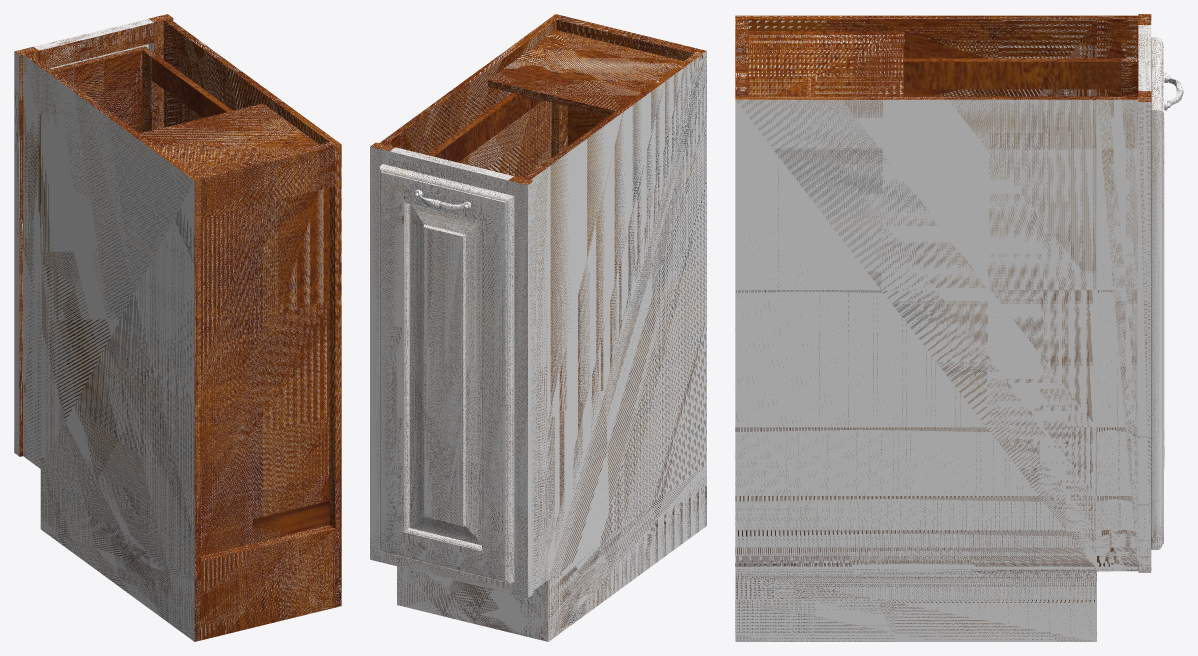
3 views of the same model, side by side, from view 1: azimuth 30°, elevation 25°; view 2: azimuth 150°, elevation 25°; view 3: azimuth 270°, elevation 25° (orthographic). The views are drawn at different scales.
Visible parts, largest first — view 1: mesh7_mesh7-geometry, mesh4_mesh4-geometry, mesh12_mesh12-geometry, mesh8_mesh8-geometry, mesh10_mesh10-geometry, mesh6_mesh6-geometry, mesh14_mesh14-geometry, mesh3_mesh3-geometry, mesh2_mesh2-geometry, mesh18_mesh18-geometry, mesh5_mesh5-geometry, mesh15_mesh15-geometry (+3 smaller); view 2: mesh7_mesh7-geometry, mesh28_mesh28-geometry, mesh27_mesh27-geometry, mesh2_mesh2-geometry, mesh29_mesh29-geometry, mesh8_mesh8-geometry, mesh14_mesh14-geometry, mesh10_mesh10-geometry, mesh6_mesh6-geometry, mesh13_mesh13-geometry, mesh5_mesh5-geometry, mesh22_mesh22-geometry (+9 smaller); view 3: mesh10_mesh10-geometry, mesh11_mesh11-geometry, mesh9_mesh9-geometry, mesh7_mesh7-geometry, mesh14_mesh14-geometry, mesh15_mesh15-geometry, mesh2_mesh2-geometry, mesh27_mesh27-geometry, mesh6_mesh6-geometry, mesh3_mesh3-geometry, mesh21_mesh21-geometry, mesh5_mesh5-geometry (+2 smaller).
Boxes of the visible parts, x1=… form: mesh7_mesh7-geometry: x1=40, y1=66, x2=200, y2=581; mesh4_mesh4-geometry: x1=201, y1=187, x2=329, y2=556; mesh12_mesh12-geometry: x1=201, y1=525, x2=335, y2=640; mesh8_mesh8-geometry: x1=40, y1=469, x2=200, y2=641; mesh10_mesh10-geometry: x1=181, y1=31, x2=341, y2=547; mesh6_mesh6-geometry: x1=23, y1=53, x2=46, y2=468; mesh14_mesh14-geometry: x1=140, y1=103, x2=318, y2=174; mesh3_mesh3-geometry: x1=196, y1=142, x2=335, y2=218; mesh2_mesh2-geometry: x1=14, y1=14, x2=173, y2=456; mesh18_mesh18-geometry: x1=51, y1=48, x2=142, y2=133; mesh5_mesh5-geometry: x1=34, y1=18, x2=153, y2=67; mesh15_mesh15-geometry: x1=152, y1=56, x2=232, y2=117; mesh7_mesh7-geometry: x1=542, y1=49, x2=706, y2=579; mesh28_mesh28-geometry: x1=461, y1=237, x2=514, y2=534; mesh27_mesh27-geometry: x1=379, y1=217, x2=425, y2=514; mesh2_mesh2-geometry: x1=370, y1=142, x2=533, y2=597; mesh29_mesh29-geometry: x1=425, y1=229, x2=461, y2=523; mesh8_mesh8-geometry: x1=541, y1=464, x2=706, y2=641; mesh14_mesh14-geometry: x1=488, y1=30, x2=683, y2=116; mesh10_mesh10-geometry: x1=397, y1=14, x2=561, y2=178; mesh6_mesh6-geometry: x1=524, y1=165, x2=548, y2=590; mesh13_mesh13-geometry: x1=403, y1=568, x2=541, y2=640; mesh5_mesh5-geometry: x1=389, y1=147, x2=513, y2=593; mesh22_mesh22-geometry: x1=461, y1=184, x2=514, y2=248; mesh10_mesh10-geometry: x1=735, y1=96, x2=1096, y2=571; mesh11_mesh11-geometry: x1=735, y1=571, x2=1096, y2=641; mesh9_mesh9-geometry: x1=1097, y1=96, x2=1138, y2=571; mesh7_mesh7-geometry: x1=735, y1=15, x2=1096, y2=96; mesh14_mesh14-geometry: x1=748, y1=31, x2=904, y2=96; mesh15_mesh15-geometry: x1=904, y1=58, x2=1120, y2=89; mesh2_mesh2-geometry: x1=1138, y1=14, x2=1151, y2=572; mesh27_mesh27-geometry: x1=1151, y1=142, x2=1164, y2=493; mesh6_mesh6-geometry: x1=1097, y1=15, x2=1138, y2=96; mesh3_mesh3-geometry: x1=735, y1=19, x2=748, y2=96; mesh21_mesh21-geometry: x1=1151, y1=83, x2=1164, y2=167; mesh5_mesh5-geometry: x1=1138, y1=25, x2=1151, y2=90.
Size of the model in its own units: 0.2681 by 0.7707 by 0.5781.
